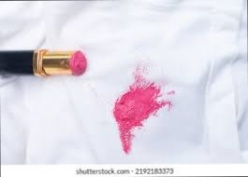lipstick: (111, 78, 165, 152)
